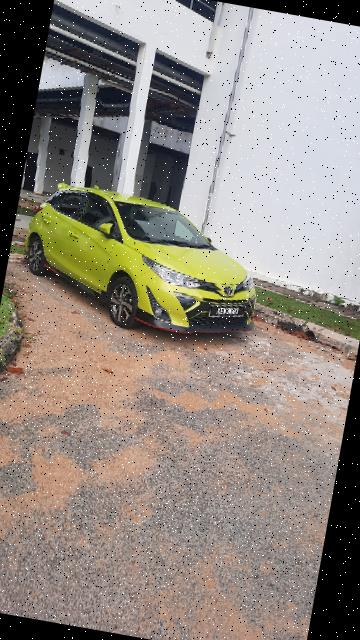License_Plate: (210, 300, 248, 325)
car: (10, 176, 274, 354)
